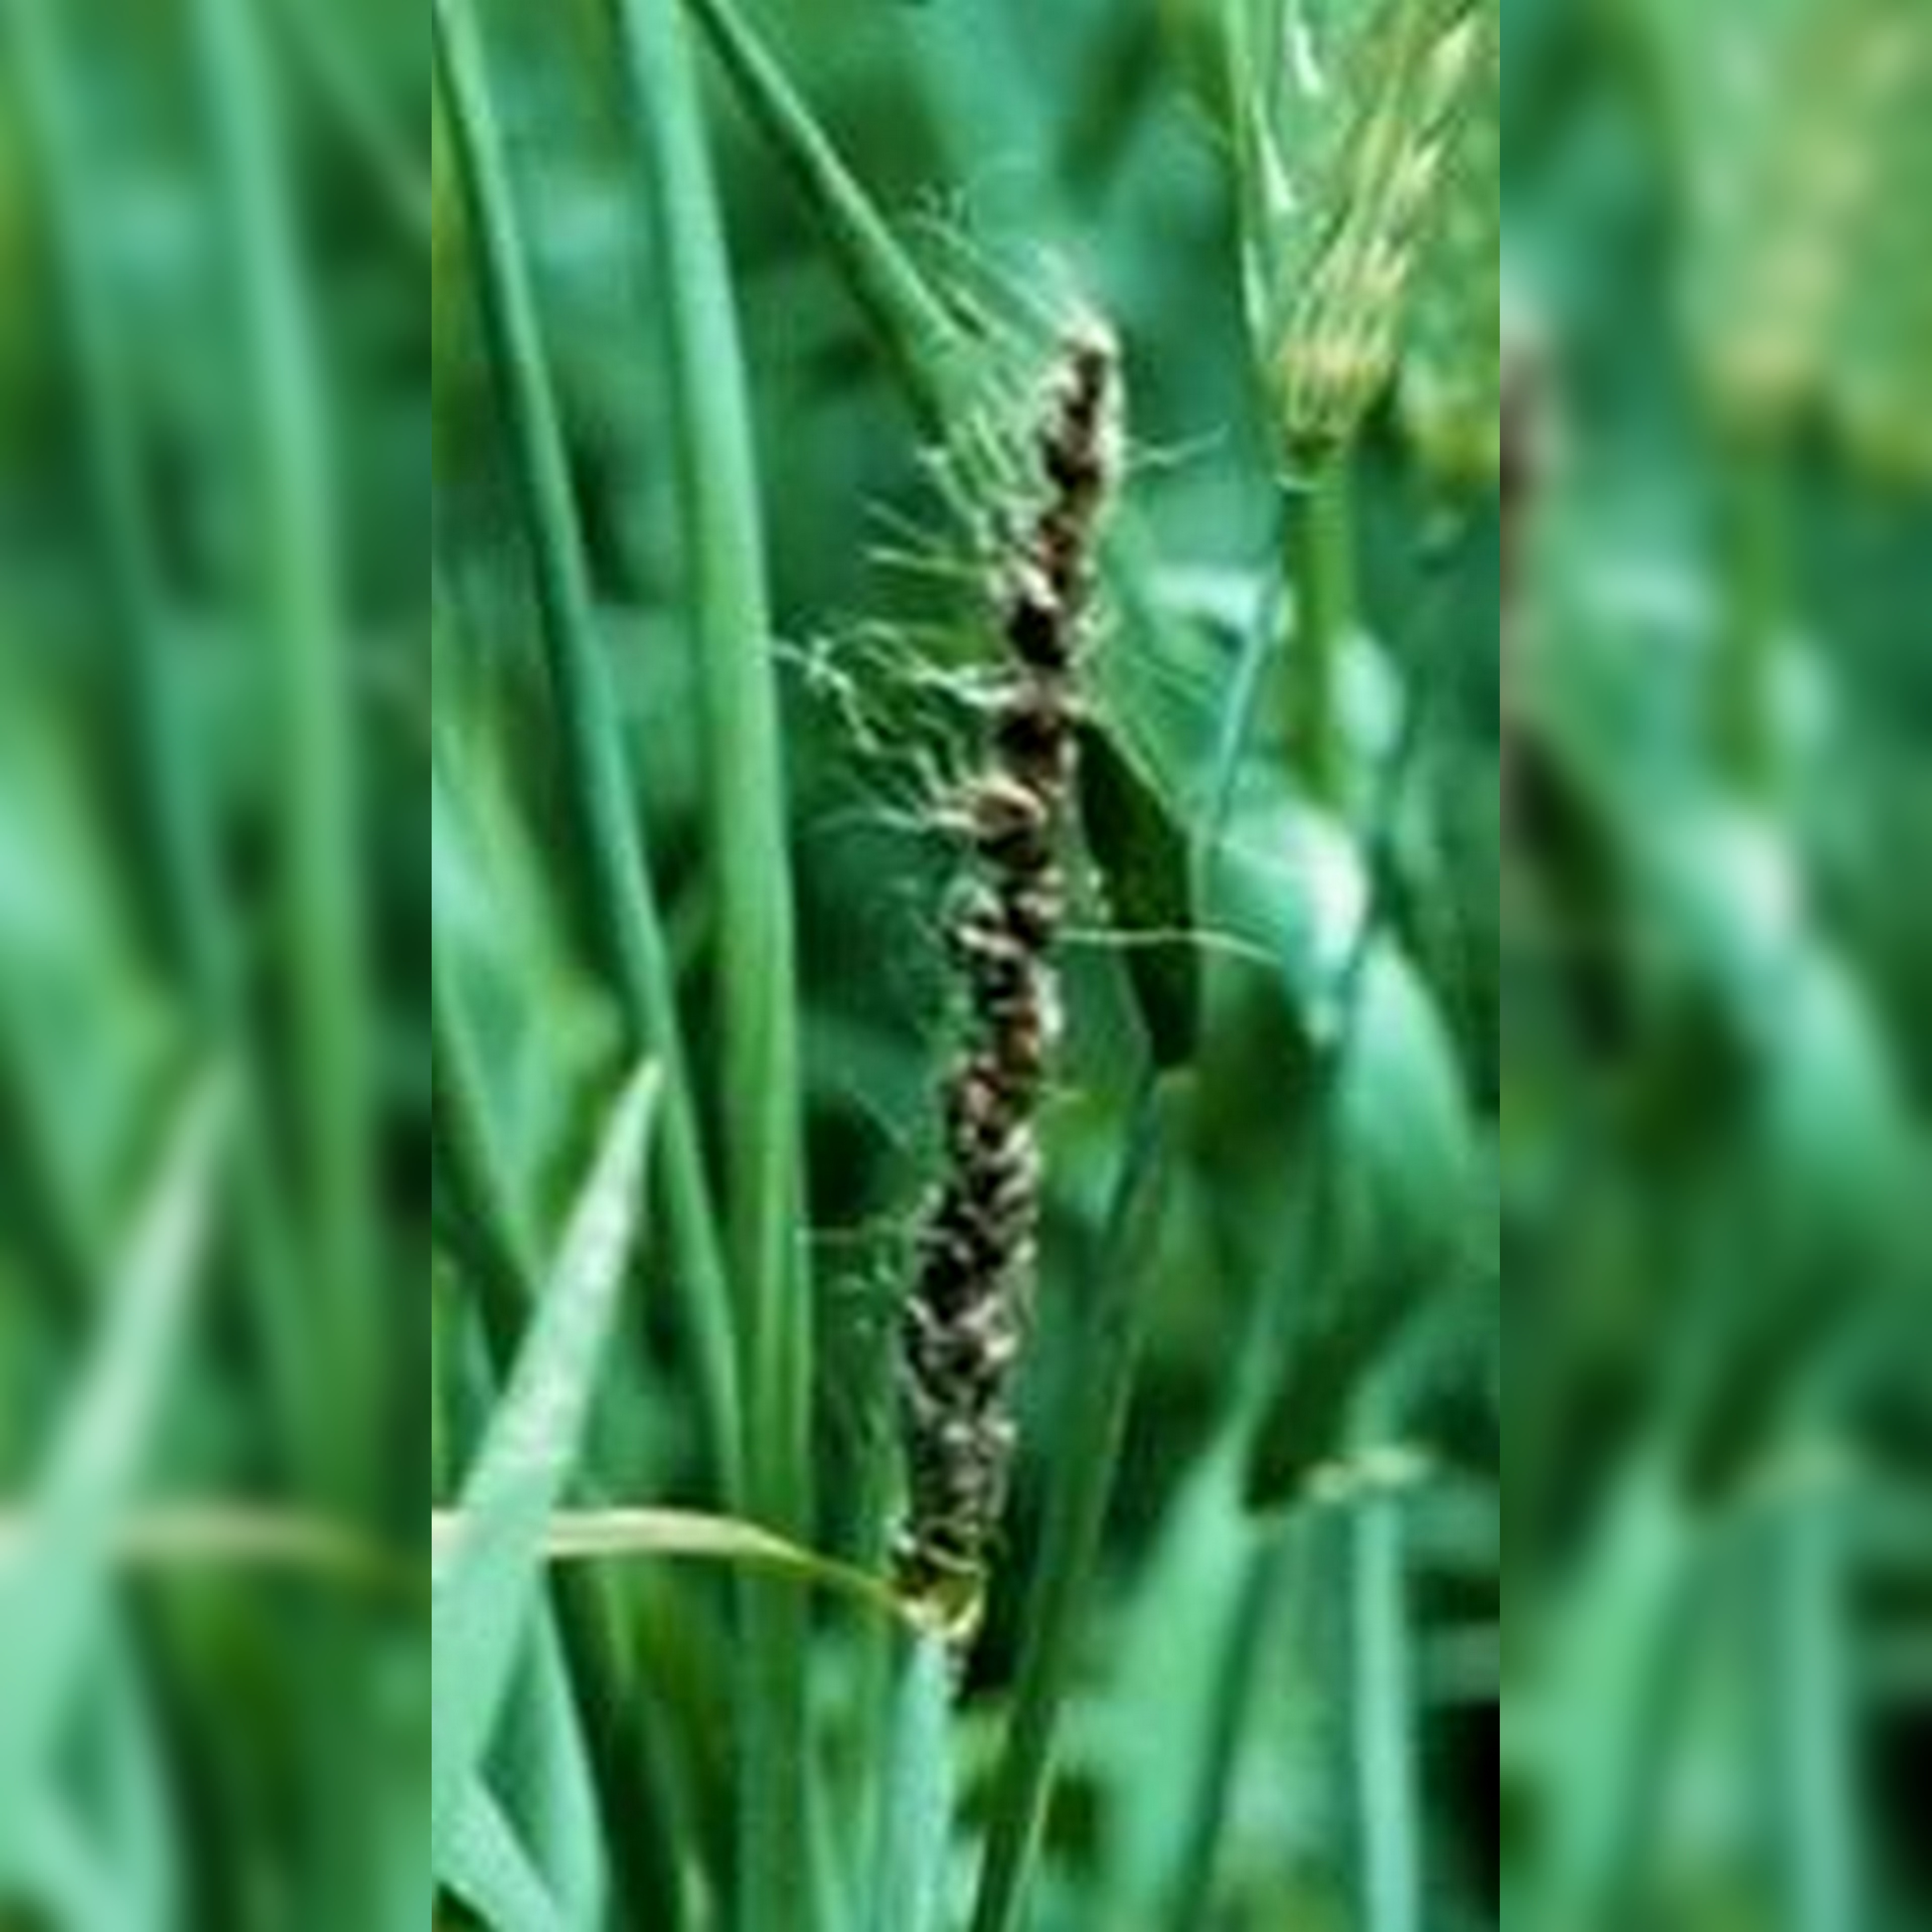Wheat Loose Smut: (879, 347, 1146, 1583)
